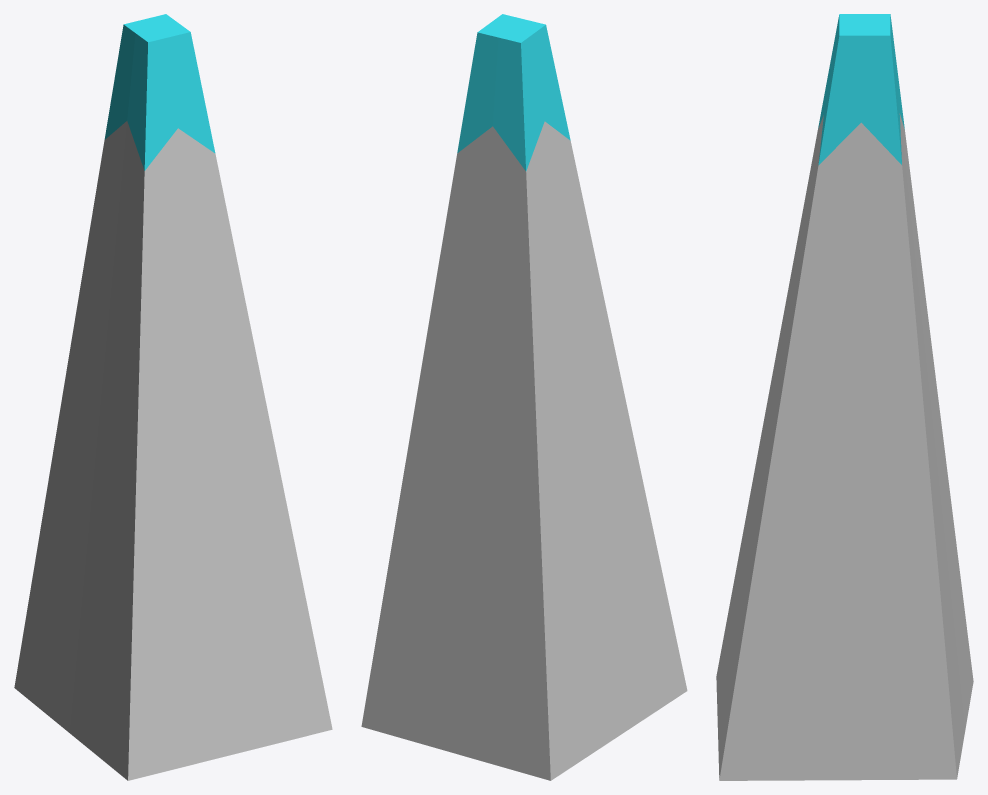
The model's file is montaine.fbx.
The picture shows the model from 3 angles, left to right: view 1: azimuth 30°, elevation 25°; view 2: azimuth 150°, elevation 25°; view 3: azimuth 270°, elevation 25°; orthographic projection. The views are drawn at different scales.
Visible parts, largest first — view 1: Cube; view 2: Cube; view 3: Cube.
Part boxes in pixels (<box>): Cube: <box>14,14,332,780</box>; Cube: <box>361,14,687,780</box>; Cube: <box>716,14,973,780</box>.
Bounding box in the file's own units: 359 × 1127 × 374.
